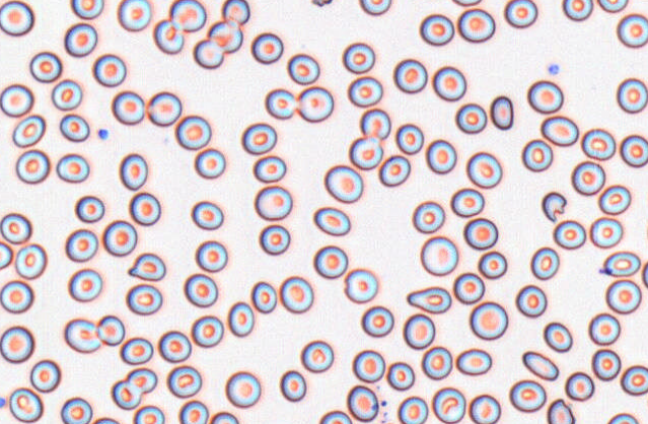PLT: (97, 128, 110, 141), (548, 64, 560, 75)
RBC: (420, 235, 458, 276), (469, 301, 508, 340), (324, 164, 363, 203), (224, 370, 261, 408), (466, 151, 502, 188), (297, 85, 333, 122), (254, 185, 292, 220), (457, 8, 495, 43), (175, 114, 211, 150), (64, 318, 101, 353), (431, 386, 466, 423), (102, 219, 137, 256), (0, 325, 34, 363), (279, 275, 313, 313), (605, 279, 641, 314), (527, 79, 563, 114), (508, 379, 546, 412), (8, 387, 43, 422), (183, 272, 218, 307), (313, 244, 348, 279), (343, 268, 378, 303), (146, 91, 181, 126), (15, 149, 50, 184), (0, 0, 34, 36), (432, 65, 466, 101), (207, 19, 242, 53), (349, 135, 383, 170), (571, 160, 605, 195), (393, 58, 427, 93), (402, 313, 435, 349), (166, 365, 202, 398), (14, 243, 47, 279), (169, 0, 206, 32), (346, 384, 378, 421), (125, 283, 162, 315), (521, 350, 559, 381), (540, 115, 578, 146), (92, 53, 126, 87), (68, 268, 102, 302), (463, 217, 498, 250), (64, 22, 97, 57), (419, 13, 454, 46), (581, 127, 616, 160), (111, 90, 144, 125), (241, 122, 277, 154), (0, 83, 33, 117), (0, 279, 33, 313), (352, 349, 385, 383), (65, 228, 98, 262), (411, 200, 445, 233), (29, 358, 61, 393), (347, 75, 382, 107), (616, 77, 647, 113), (425, 138, 456, 174), (313, 206, 350, 236), (119, 152, 148, 190), (300, 339, 333, 372), (12, 114, 45, 147), (360, 305, 394, 337), (521, 138, 553, 172), (589, 216, 623, 248), (286, 53, 320, 85), (129, 191, 161, 225), (153, 19, 184, 54), (421, 345, 452, 380), (616, 13, 647, 48), (455, 347, 492, 376), (452, 272, 485, 304), (588, 312, 620, 345), (378, 154, 410, 187), (515, 284, 547, 317), (191, 314, 223, 347), (158, 330, 191, 362), (250, 32, 283, 64), (117, 0, 151, 31), (602, 250, 641, 277), (193, 147, 225, 179), (455, 102, 487, 134), (195, 240, 227, 272), (598, 184, 631, 215), (342, 42, 375, 73), (450, 187, 484, 217), (552, 219, 586, 249), (55, 153, 89, 183), (359, 108, 391, 139), (258, 224, 290, 255), (264, 88, 296, 119), (29, 51, 61, 82), (591, 348, 621, 381), (468, 393, 501, 423), (530, 246, 559, 280), (227, 301, 254, 337), (193, 38, 224, 69), (0, 212, 31, 243), (51, 79, 82, 110), (191, 200, 223, 230), (120, 336, 153, 365), (252, 155, 286, 183), (503, 0, 537, 28), (111, 379, 142, 409), (542, 321, 572, 352), (96, 314, 125, 346), (564, 371, 594, 401), (395, 123, 424, 154), (279, 369, 306, 402), (620, 134, 647, 167), (250, 280, 277, 313), (489, 95, 514, 130), (386, 361, 415, 391), (477, 250, 507, 279), (59, 113, 89, 142), (397, 395, 428, 423), (620, 364, 647, 396), (60, 396, 92, 423), (74, 195, 104, 223), (126, 367, 157, 394), (221, 0, 250, 25), (546, 398, 575, 423), (178, 399, 208, 423), (562, 0, 593, 21), (70, 0, 103, 19), (133, 404, 164, 423), (358, 0, 391, 15), (318, 409, 352, 423), (597, 0, 628, 13), (209, 410, 239, 423), (606, 412, 639, 423), (0, 241, 12, 269), (91, 416, 120, 423), (451, 0, 482, 6), (642, 259, 648, 288), (310, 0, 333, 7), (0, 394, 6, 409)
Schistocyte: (404, 285, 454, 315), (128, 252, 167, 282), (541, 192, 569, 222)
